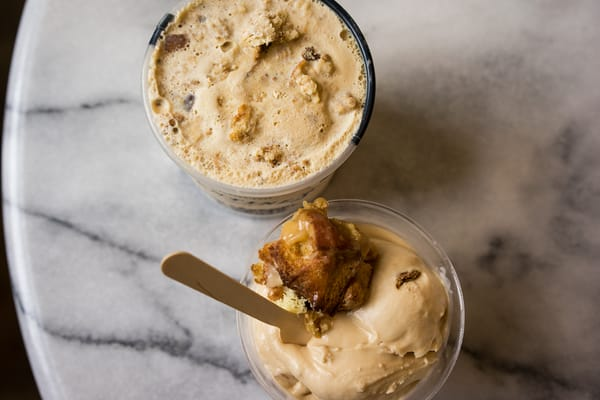sandwich: (159, 250, 317, 346)
sushi: (139, 0, 376, 216)
